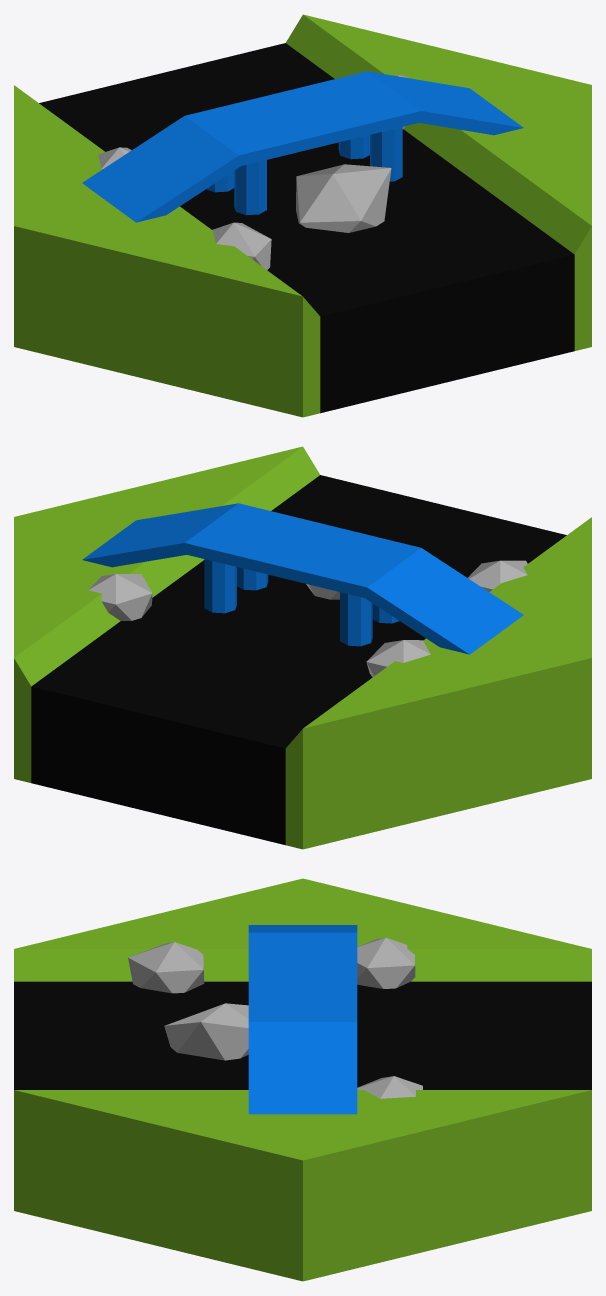
File: Rio_1.fbx
3 renders of one model, top to bottom at view 1: azimuth 30°, elevation 25°; view 2: azimuth 150°, elevation 25°; view 3: azimuth 270°, elevation 25°, orthographic.
Parts seen in each view (by area): view 1: Rio_1; view 2: Rio_1; view 3: Rio_1.
Part boxes in pixels (<box>): Rio_1: <box>14,14,591,417</box>; Rio_1: <box>14,446,591,849</box>; Rio_1: <box>14,878,591,1281</box>.
Bounding box in the file's own units: 200 × 53.93 × 173.
